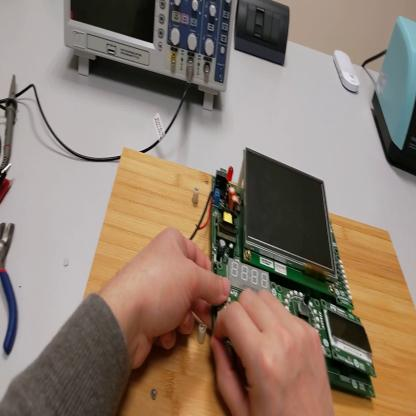hand: (210, 286, 336, 415), (119, 228, 231, 368)
low voltage board: (188, 146, 375, 397)
oscilloscope: (64, 4, 240, 110)
oscilloscope probe tip: (2, 75, 19, 171)
pliers: (2, 221, 20, 361)
welder station: (373, 17, 415, 176)
working area: (84, 148, 416, 414)
